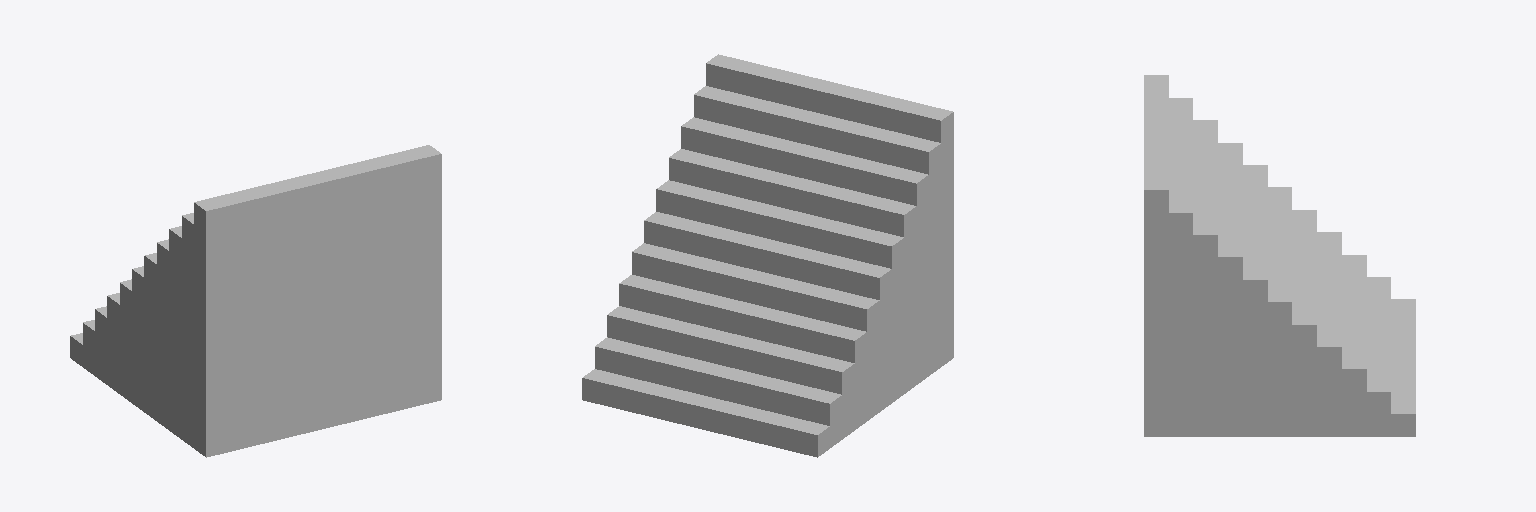
Rendered from staircase_small_steps.obj.
3 renders of one model, left to right at view 1: azimuth 30°, elevation 25°; view 2: azimuth 150°, elevation 25°; view 3: azimuth 270°, elevation 25°, orthographic.
Visible parts, largest first — view 1: Cube_Cube.005; view 2: Cube_Cube.005; view 3: Cube_Cube.005.
Boxes of the visible parts, <box> form: Cube_Cube.005: <box>70,145,441,457</box>; Cube_Cube.005: <box>582,54,953,457</box>; Cube_Cube.005: <box>1144,75,1415,436</box>.
Size of the model in its own units: 2 by 2 by 2.